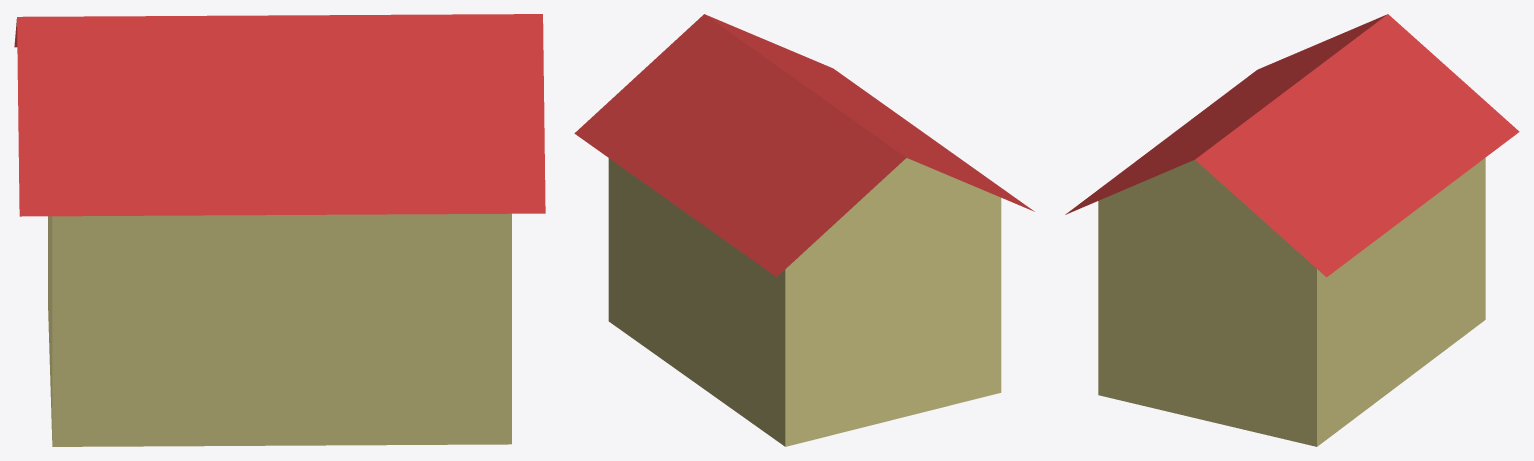
The picture shows the model from 3 angles, left to right: view 1: azimuth 30°, elevation 25°; view 2: azimuth 150°, elevation 25°; view 3: azimuth 270°, elevation 25°; orthographic projection. The views are drawn at different scales.
Bounding box in the file's own units: 14.8 × 13.71 × 8.98.
